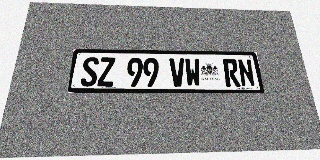9: (127, 57, 143, 87), (143, 58, 159, 87)
N: (237, 59, 256, 87)
R: (222, 59, 241, 87)
S: (80, 57, 99, 86)
V: (169, 58, 186, 87)
W: (185, 58, 201, 87)
Z: (97, 57, 115, 86)
